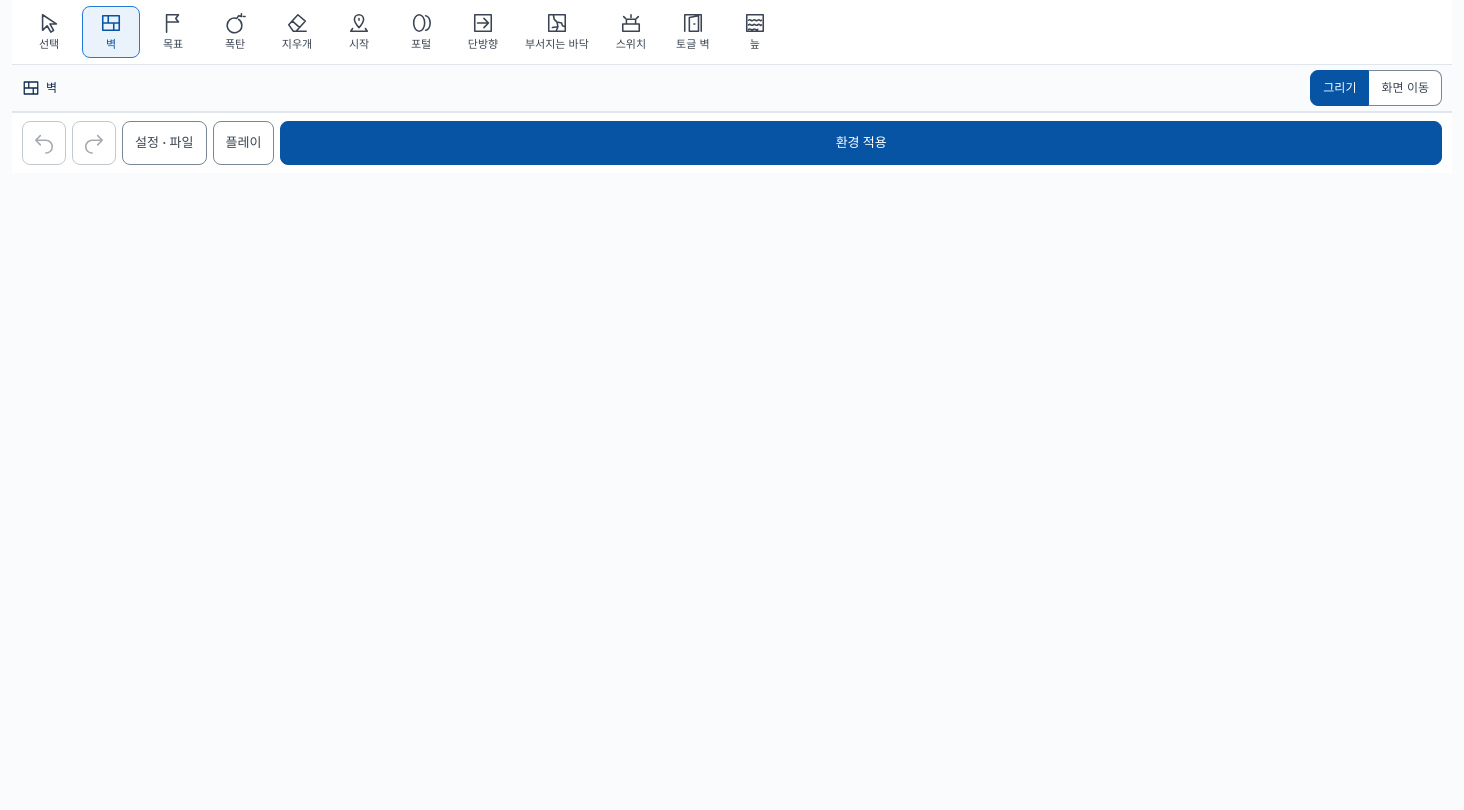
Test: phone Settings · Files sheet › has an always-visible button; opening it needs no tap on the grid and starts on Map settings
The image size is (1464, 810).
Click the button with test id "properties-toggle": (164, 143) top-left (122, 121), bottom-right (206, 165)
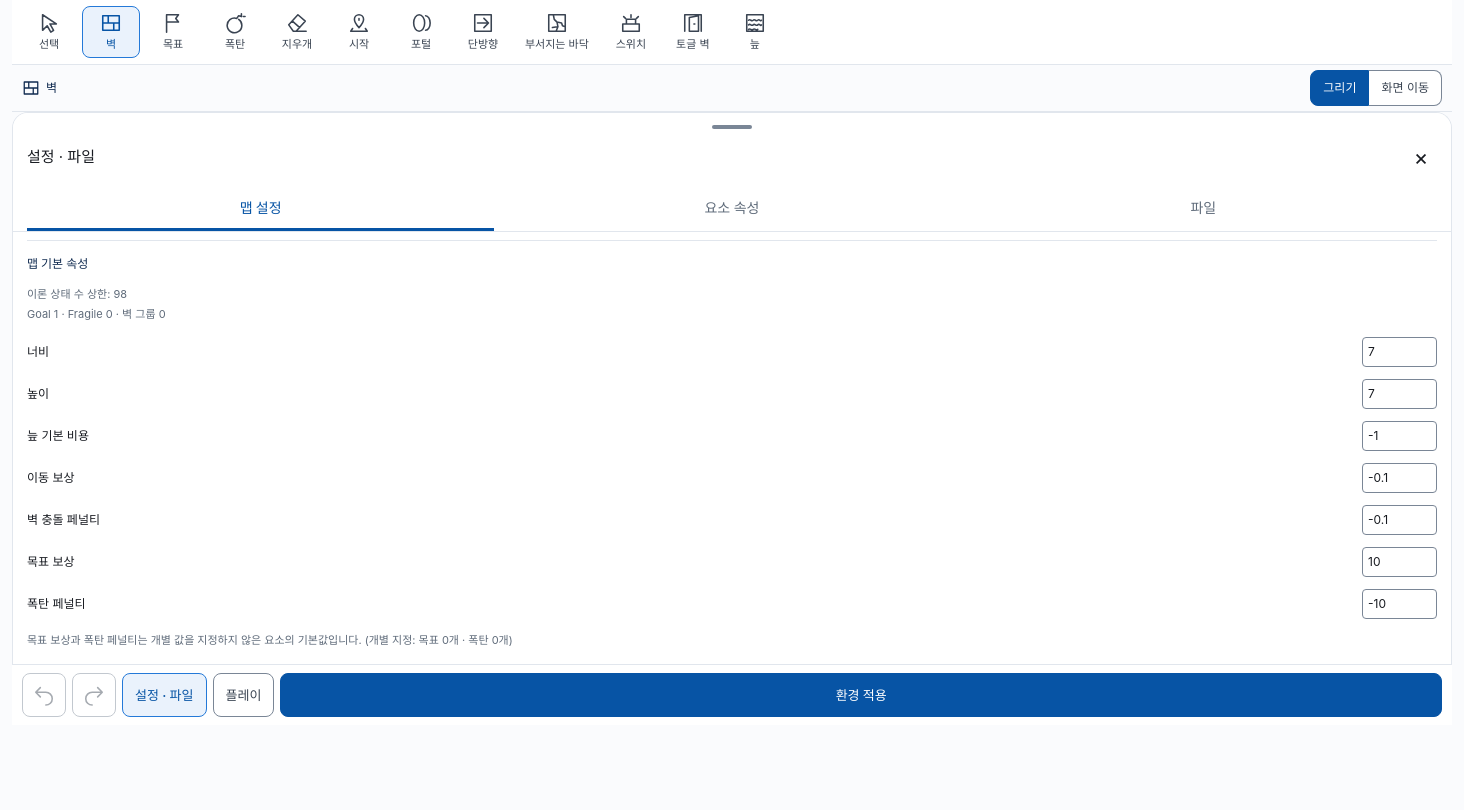
expect the button with test id "properties-toggle" is expanded: met, box top-left (122, 673), bottom-right (206, 717)
expect the tabs read "맵 설정", "요소 속성", "파일", in this order: met, box top-left (27, 187), bottom-right (494, 231); top-left (498, 187), bottom-right (966, 231); top-left (970, 187), bottom-right (1437, 231)
